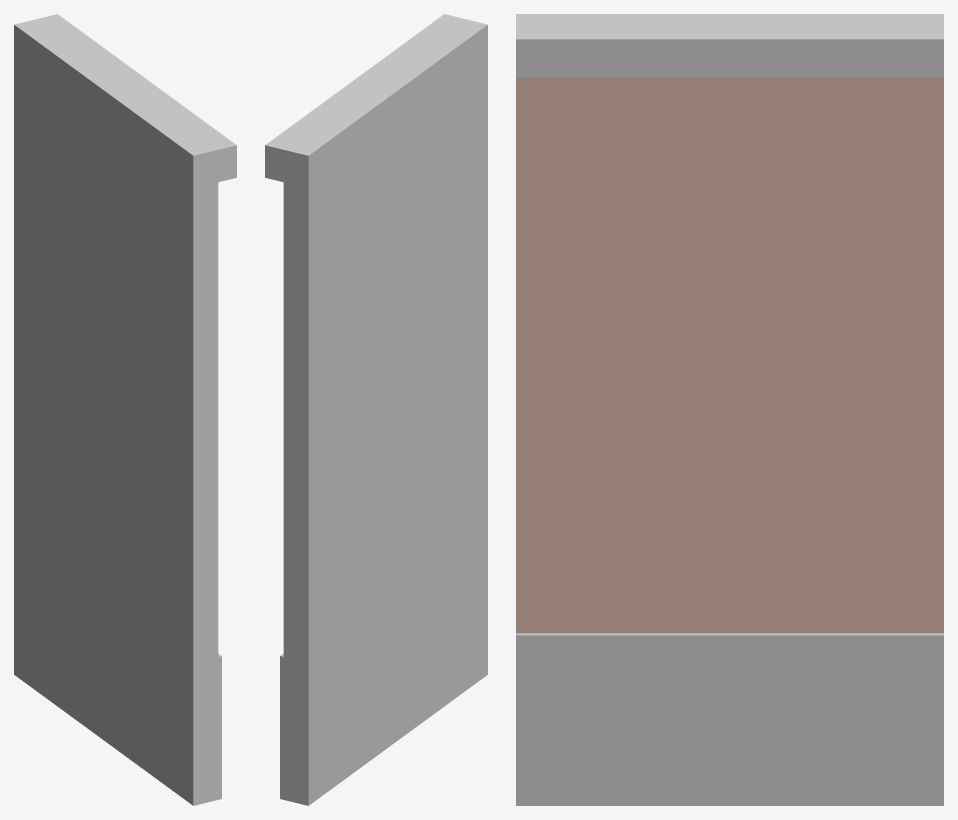
File: EntranceWall_02_Bottom.fbx
The picture shows the model from 3 angles, left to right: view 1: azimuth 30°, elevation 25°; view 2: azimuth 150°, elevation 25°; view 3: azimuth 270°, elevation 25°; orthographic projection. The views are drawn at different scales.
Parts seen in each view (by area): view 1: EntranceWall_02_Bottom; view 2: EntranceWall_02_Bottom; view 3: EntranceWall_02_Bottom.
Boxes of the visible parts, x1,y1,x2,y2 form: EntranceWall_02_Bottom: (14,14,236,805); EntranceWall_02_Bottom: (265,14,487,805); EntranceWall_02_Bottom: (516,14,943,805).
Size of the model in its own units: 0.35 by 5 by 2.5.
